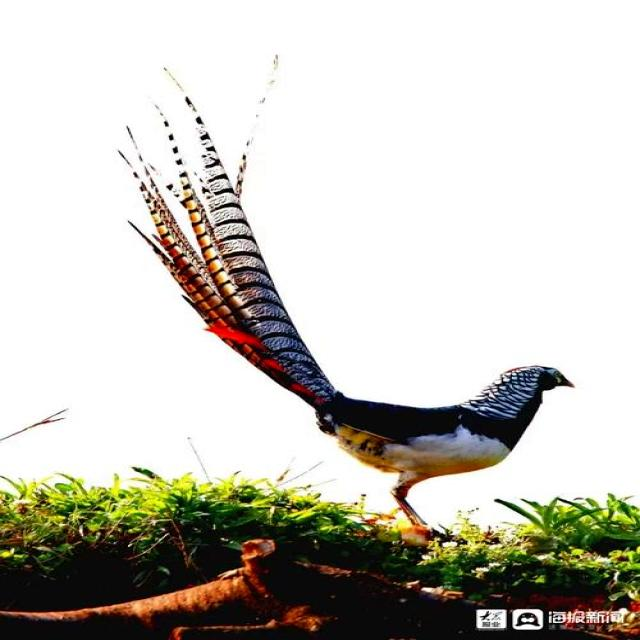Chrysolophus amherstiae: (134, 88, 340, 415)
